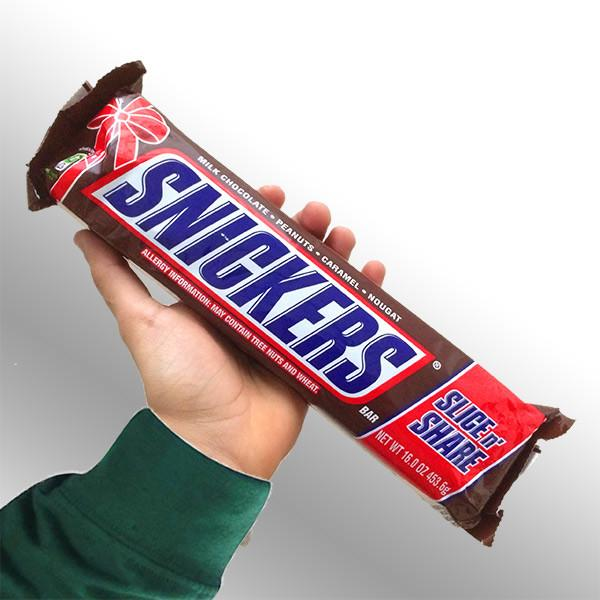snickers: (103, 145, 416, 391), (101, 156, 416, 391), (103, 156, 416, 391)
